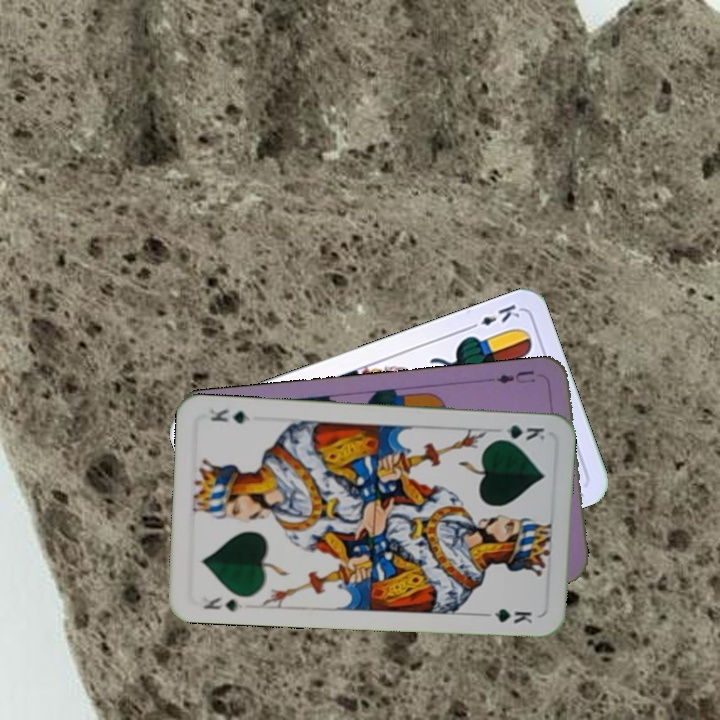EK: (464, 300, 523, 333)
EU: (492, 366, 538, 387)
GK: (490, 420, 547, 444), (200, 593, 245, 614)
